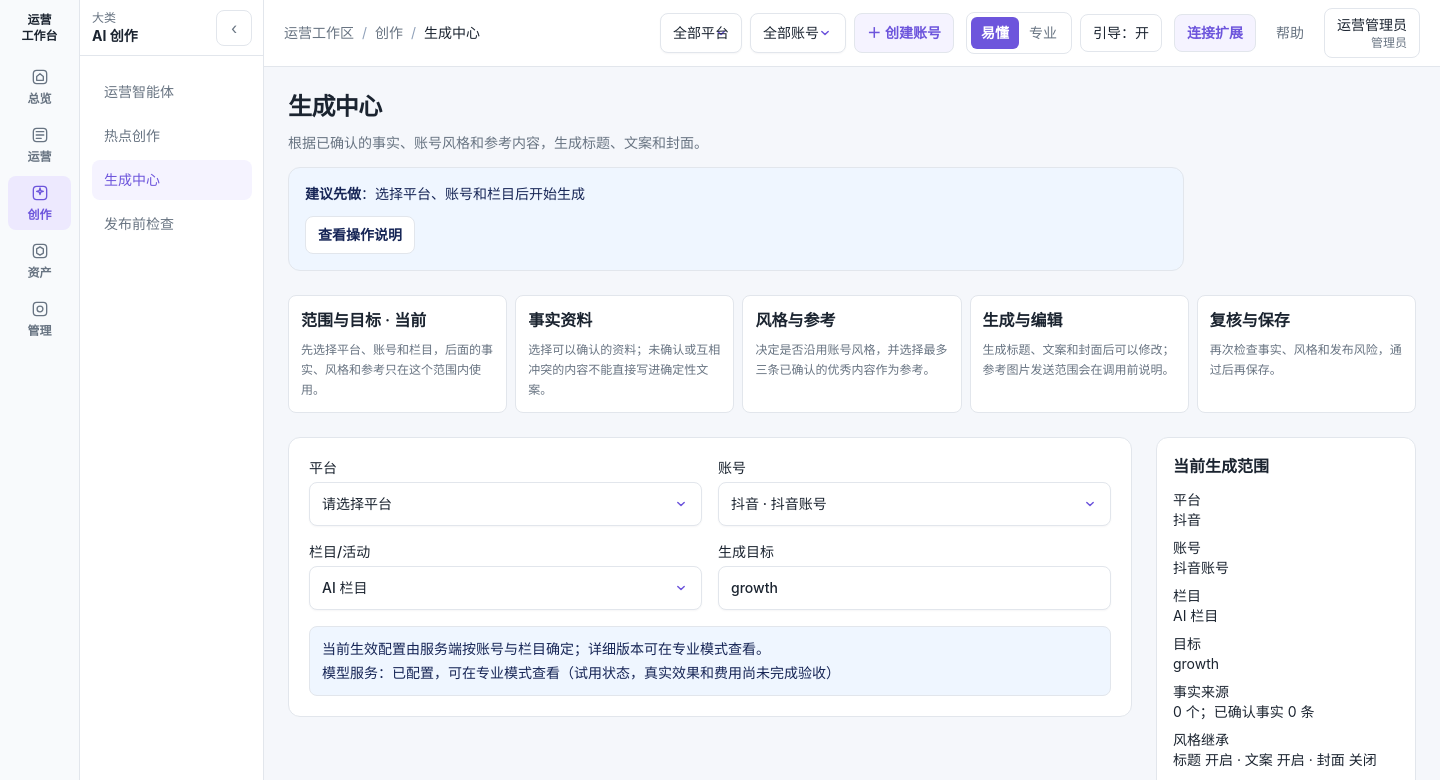
restores only validated member-scoped draft metadata
The image size is (1440, 780).
expect the dropdown labelled "账号" shows "抖音 · 抖音账号": met, box [718, 482, 1111, 526]
expect the field labelled "生成目标" holds "growth": met, box [718, 566, 1111, 610]
Click the button "风格与参考" at {"x": 795, "y": 320}, box [755, 308, 835, 332]
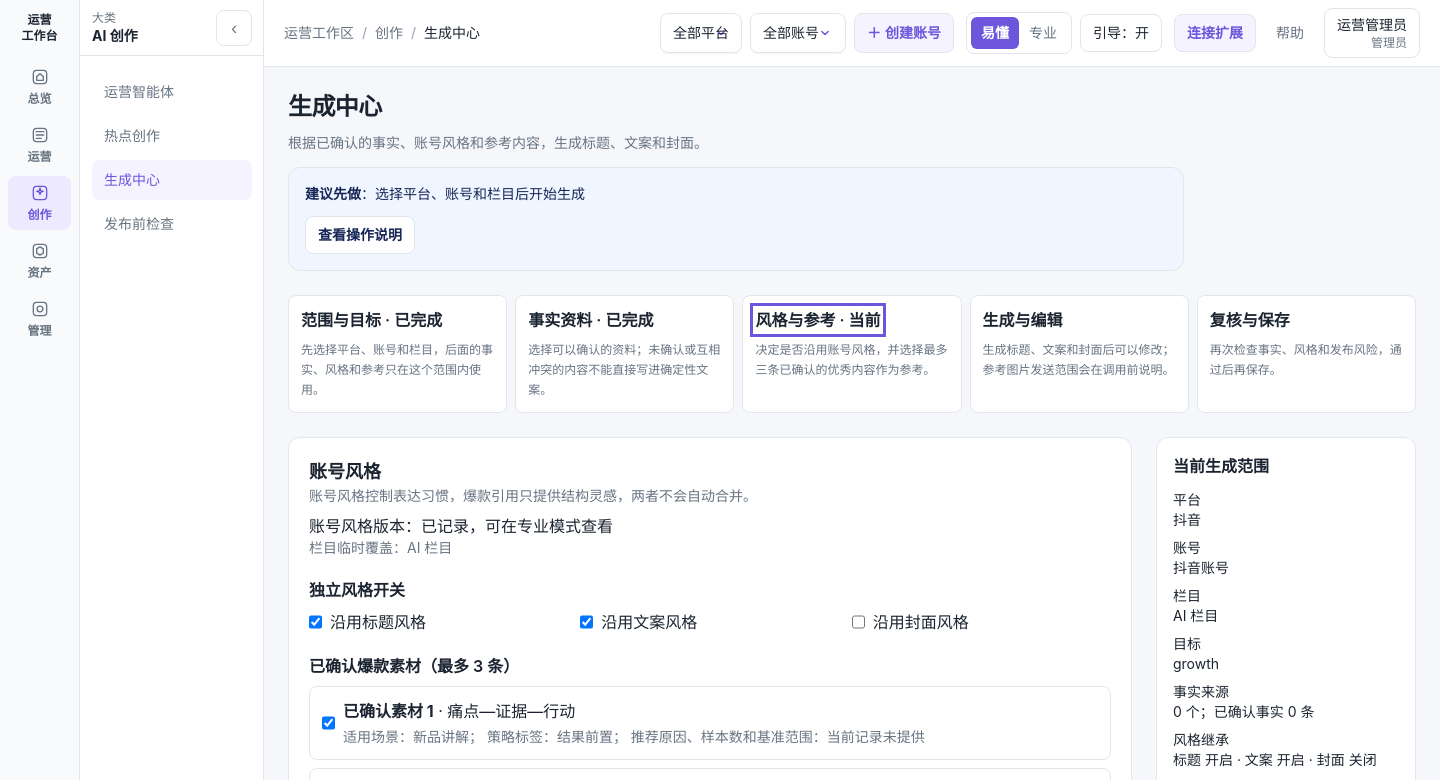
expect the checkbox labelled "沿用封面风格" is not checked: met, box [852, 610, 865, 634]
